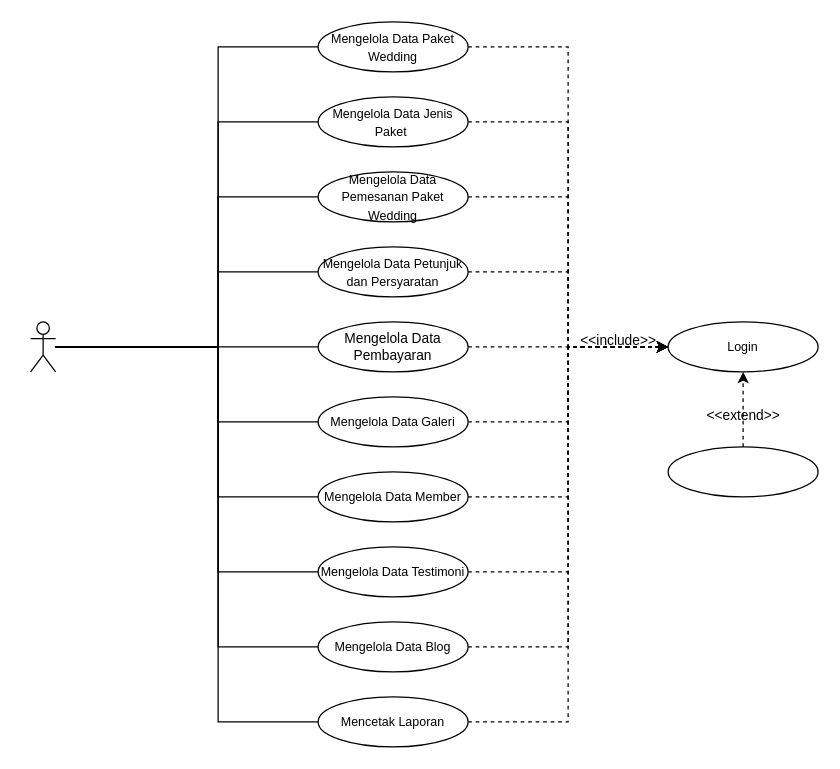
This 840x769 diagram has some shape labels left out. Each missing label, with the centre of its shape:
"Admin" belongs at point (42, 346).
"Logout" belongs at point (742, 471).
